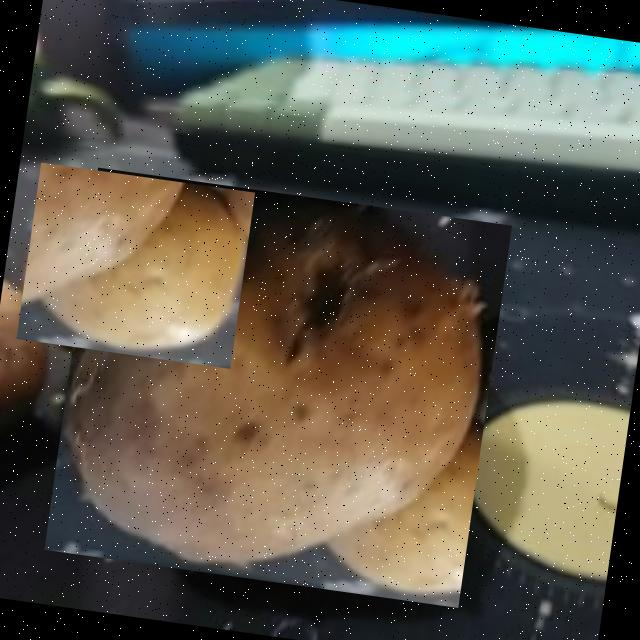Damaged potato: (43, 166, 512, 607)
Potato: (16, 162, 254, 368)
